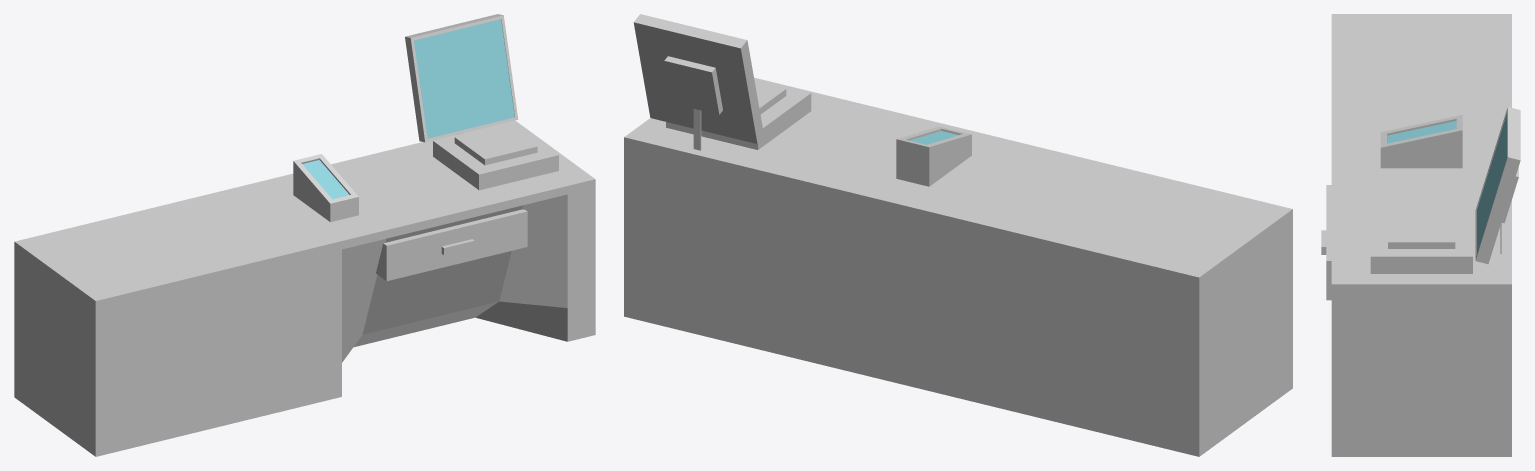
Rendered from Counter 01.fbx.
3 views of the same model, side by side, from view 1: azimuth 30°, elevation 25°; view 2: azimuth 150°, elevation 25°; view 3: azimuth 270°, elevation 25° (orthographic). The views are drawn at different scales.
Parts seen in each view (by area): view 1: Counter; view 2: Counter; view 3: Counter.
Boxes of the visible parts, x1=… form: Counter: x1=14, y1=14, x2=595, y2=456; Counter: x1=624, y1=14, x2=1292, y2=456; Counter: x1=1321, y1=14, x2=1520, y2=456.
Bounding box in the file's own units: 532 × 269 × 166.
